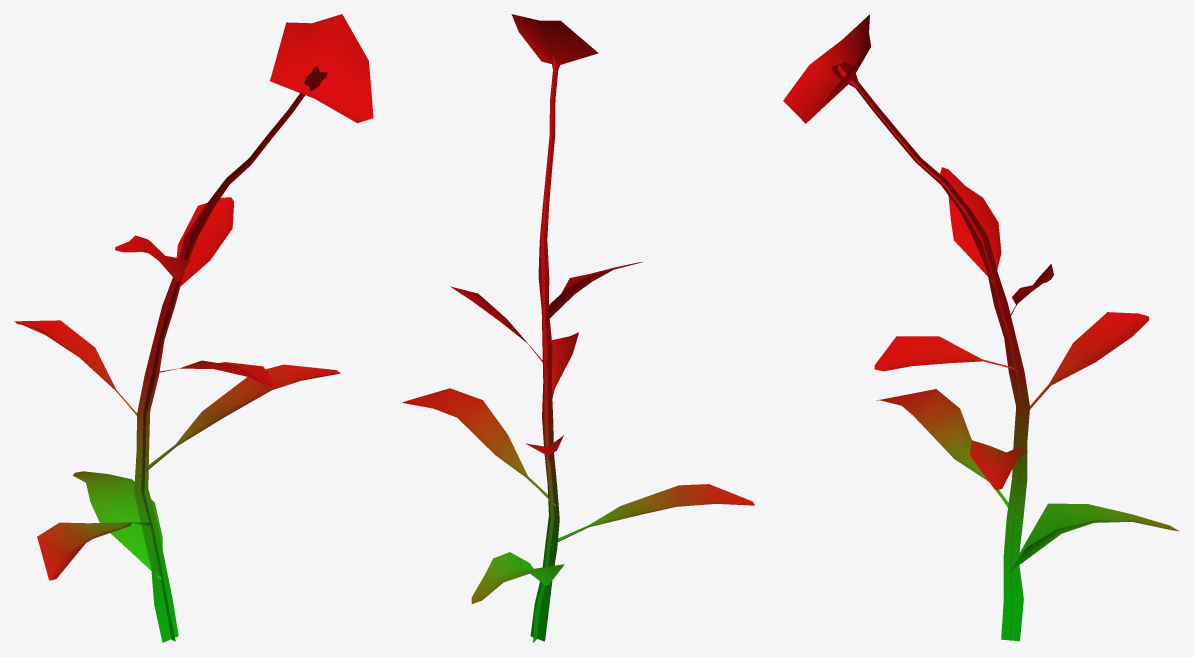
File: Field Poppy_LOD2_Var11_vmcobd0ja.fbx
The picture shows the model from 3 angles, left to right: view 1: azimuth 30°, elevation 25°; view 2: azimuth 150°, elevation 25°; view 3: azimuth 270°, elevation 25°; orthographic projection. The views are drawn at different scales.
Visible parts, largest first — view 1: _54pm_Var11_LOD2; view 2: _54pm_Var11_LOD2; view 3: _54pm_Var11_LOD2.
Part boxes in pixels (left/top/right/bottom): _54pm_Var11_LOD2: left=14, top=14, right=373, bottom=642; _54pm_Var11_LOD2: left=402, top=14, right=754, bottom=642; _54pm_Var11_LOD2: left=783, top=14, right=1178, bottom=641.
Bounding box in the file's own units: 31.85 × 57.33 × 31.78.
